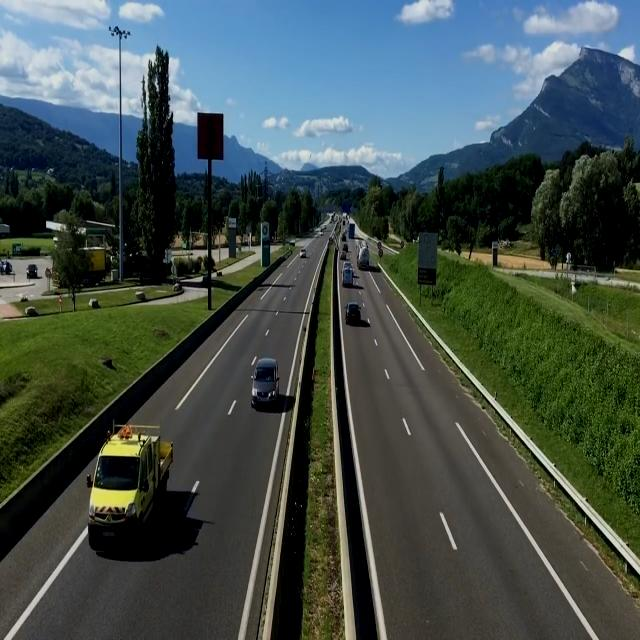Car: (86, 420, 176, 540), (345, 303, 361, 326), (300, 247, 307, 259)
Truck: (357, 240, 370, 270), (340, 261, 354, 285)
Van: (249, 358, 281, 408)
